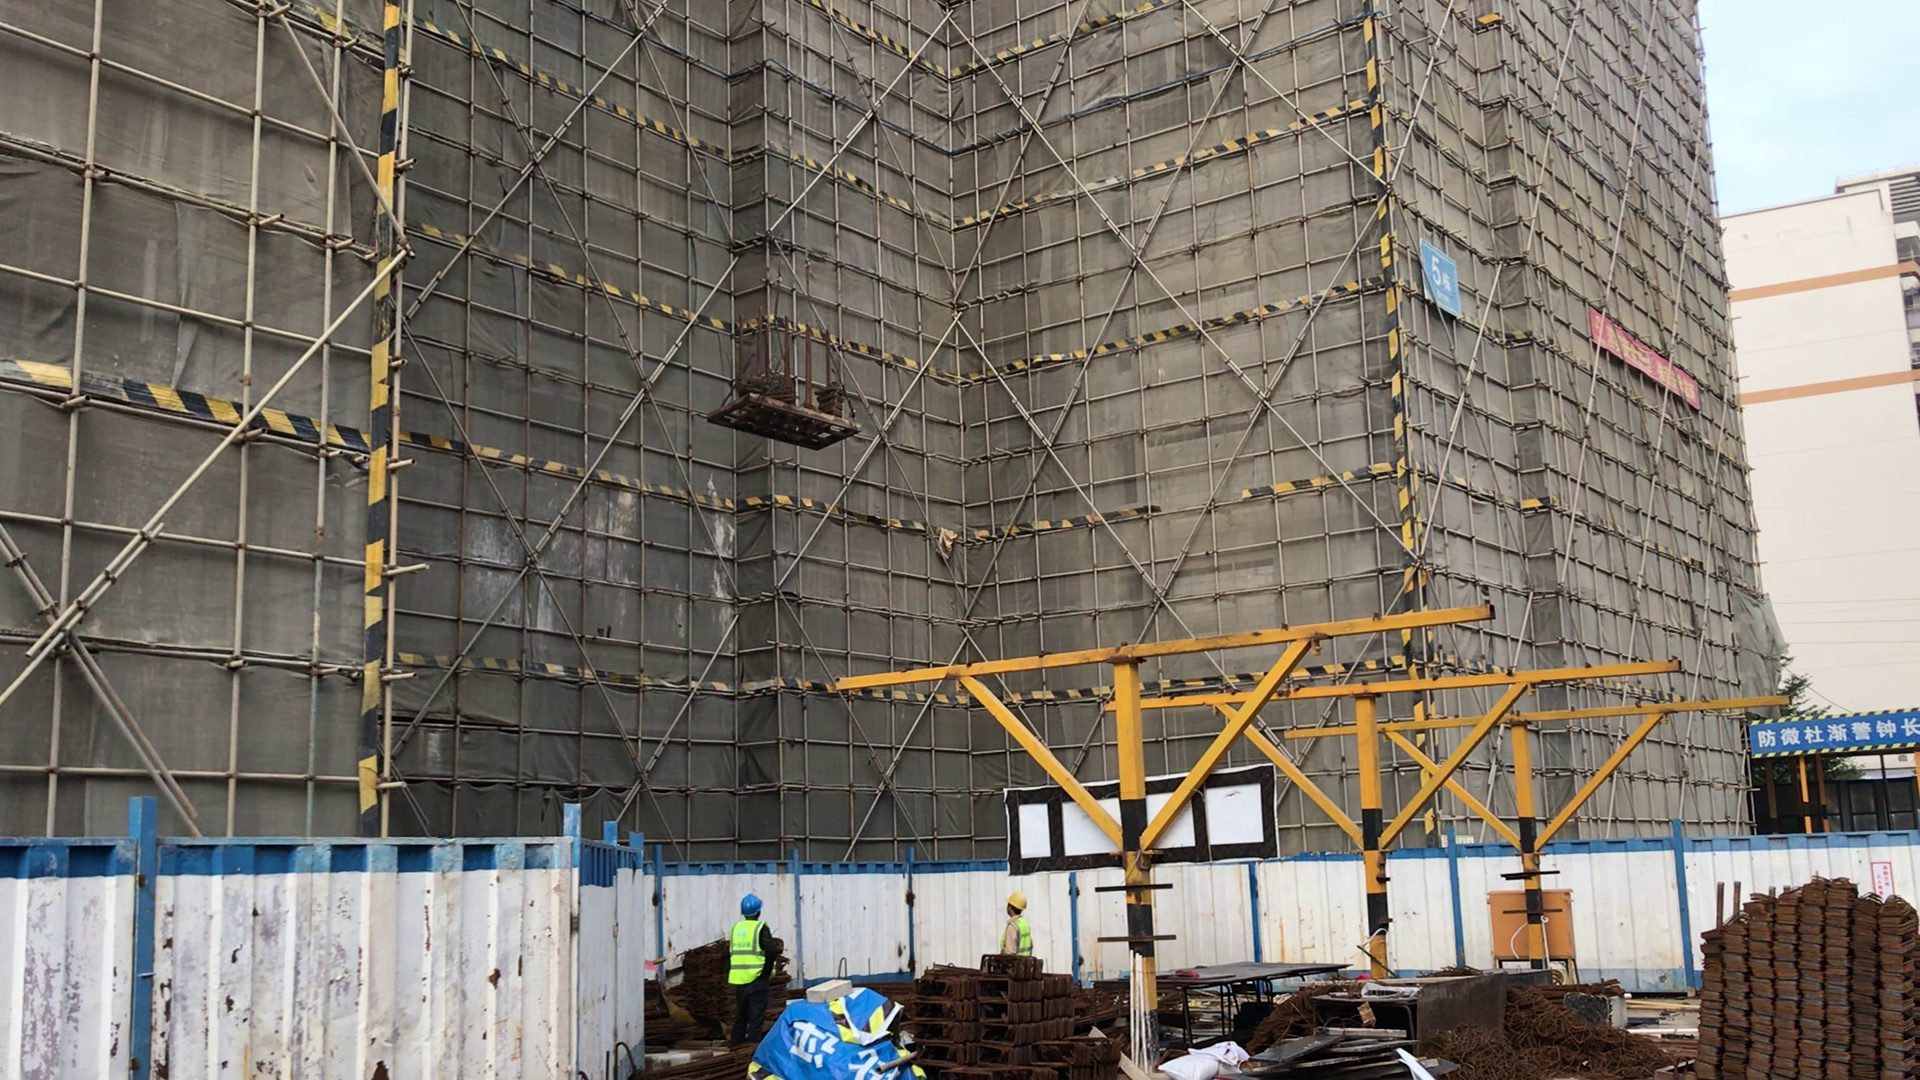helmet: (740, 894, 761, 917), (1005, 891, 1028, 910)
person: (723, 894, 780, 1046), (1001, 891, 1036, 957)
vest: (725, 918, 767, 984), (1014, 915, 1032, 955)
